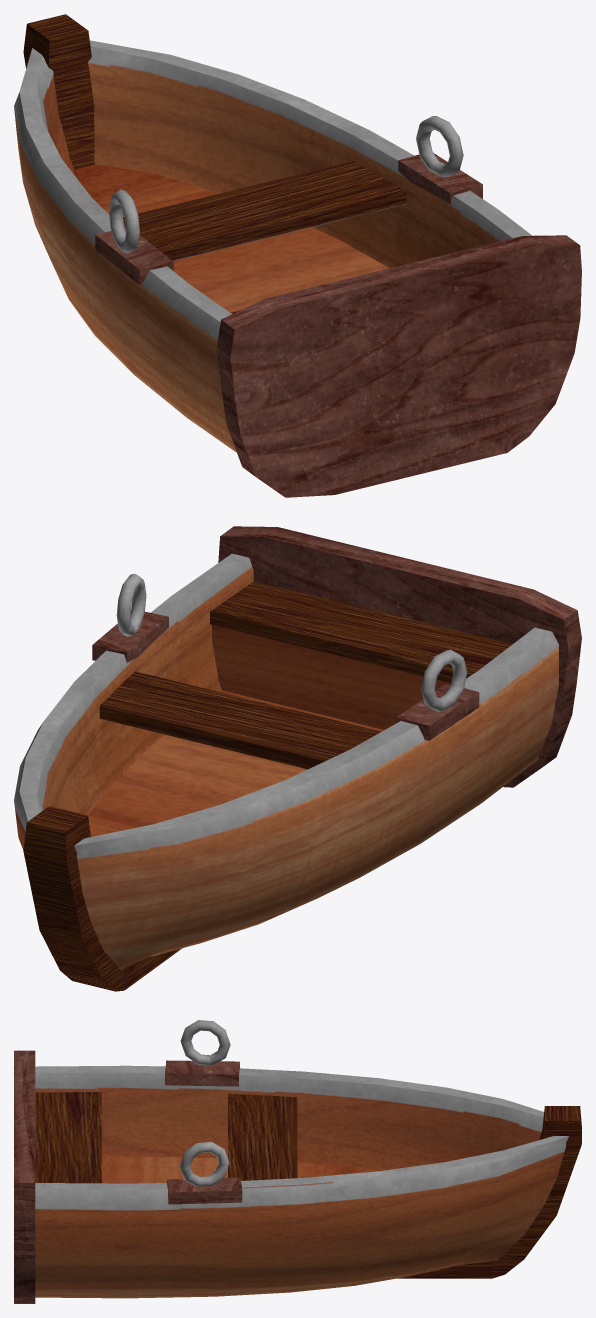
Rendered from boat.fbx.
The picture shows the model from 3 angles, top to bottom: view 1: azimuth 30°, elevation 25°; view 2: azimuth 150°, elevation 25°; view 3: azimuth 270°, elevation 25°; orthographic projection. The views are drawn at different scales.
Visible parts, largest first — view 1: boat; view 2: boat; view 3: boat.
Boxes of the visible parts, box(x1,y1,x2,y2) form: boat: box(14, 14, 581, 497); boat: box(14, 526, 581, 991); boat: box(14, 1020, 581, 1303).
Bounding box in the file's own units: 35.63 × 23.19 × 63.58.
1 material, 1 textured.
